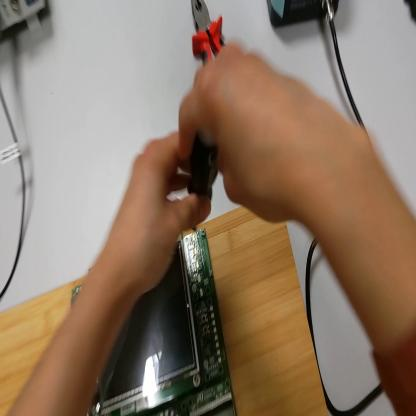hand: (177, 43, 317, 227), (109, 131, 212, 296)
low voltage board: (70, 229, 237, 416)
oscilloscope: (1, 2, 49, 39)
pliers: (190, 1, 228, 67)
screwdriver-: (191, 138, 219, 207)
welder station: (268, 2, 340, 30)
working area: (1, 205, 329, 416)
